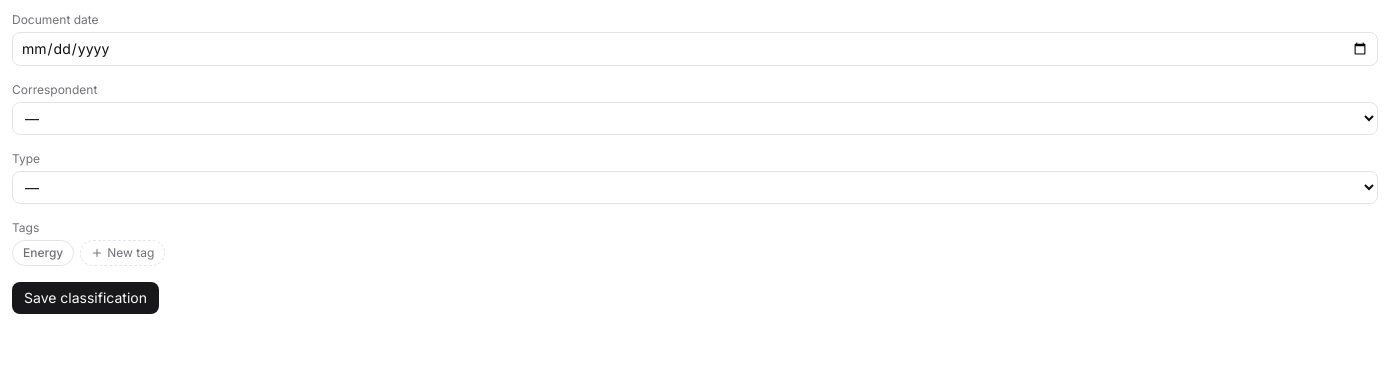
Test: ClassificationEditor › shows an inline error on duplicate name without crashing
Select "+ New correspondent…" in the dropdown below "Correspondent". click: (695, 118)
box: [12,102,1378,135]
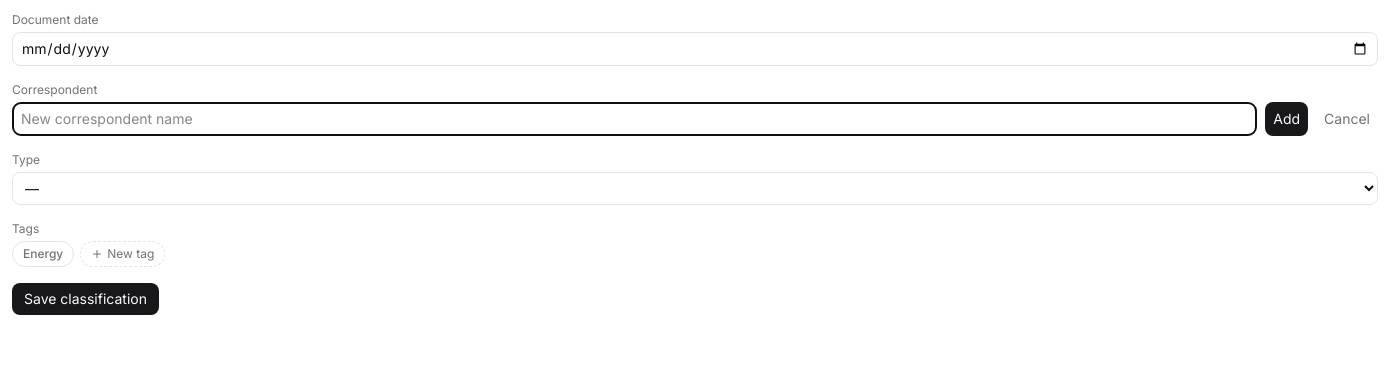
Type "EDF" into the field with placeholder "New correspondent name". click: (635, 119)
box: [12,102,1257,136]
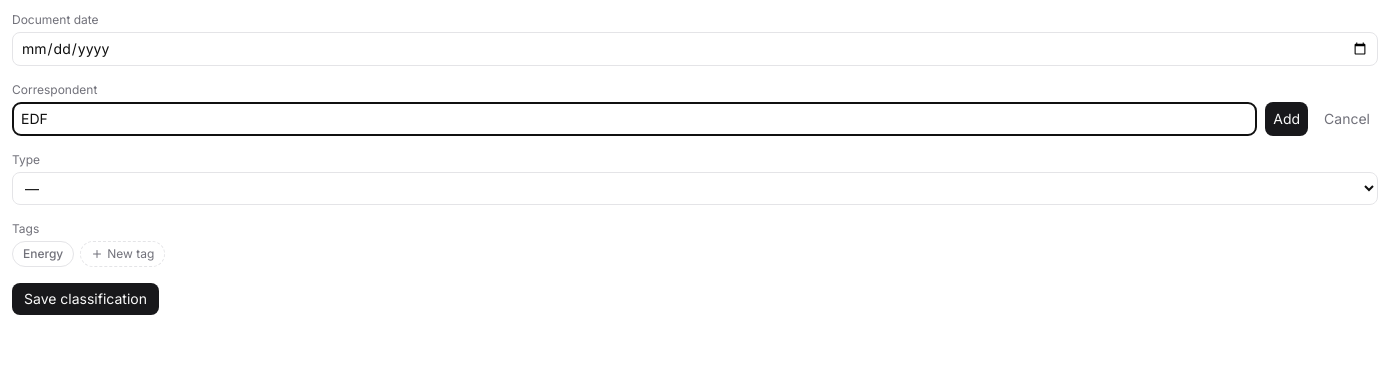
Click the button "Add". click: (1287, 119)
box: [1265,102,1308,136]
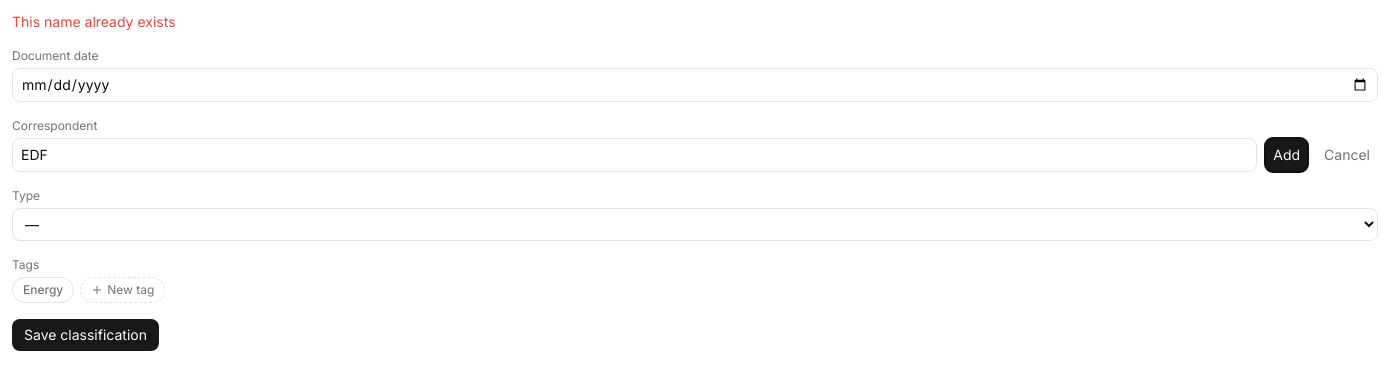
Now the text "This name already exists" is shown, box [12,13,176,30]
